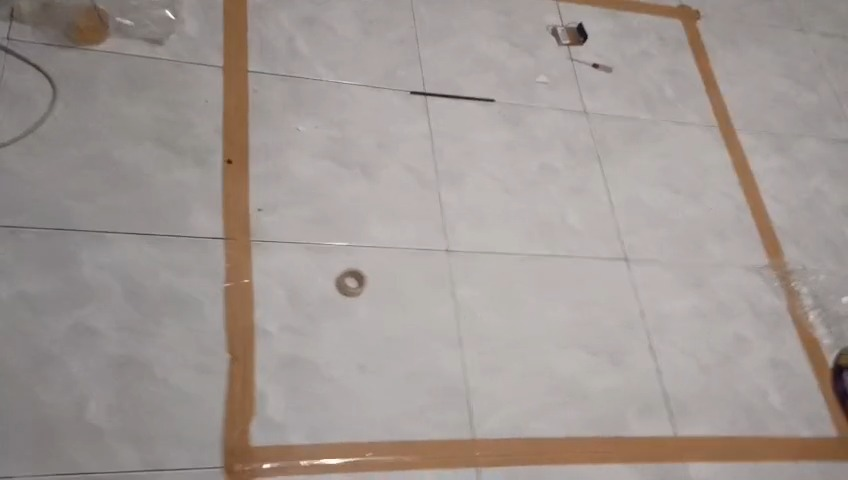floor marking: (222, 0, 847, 479)
